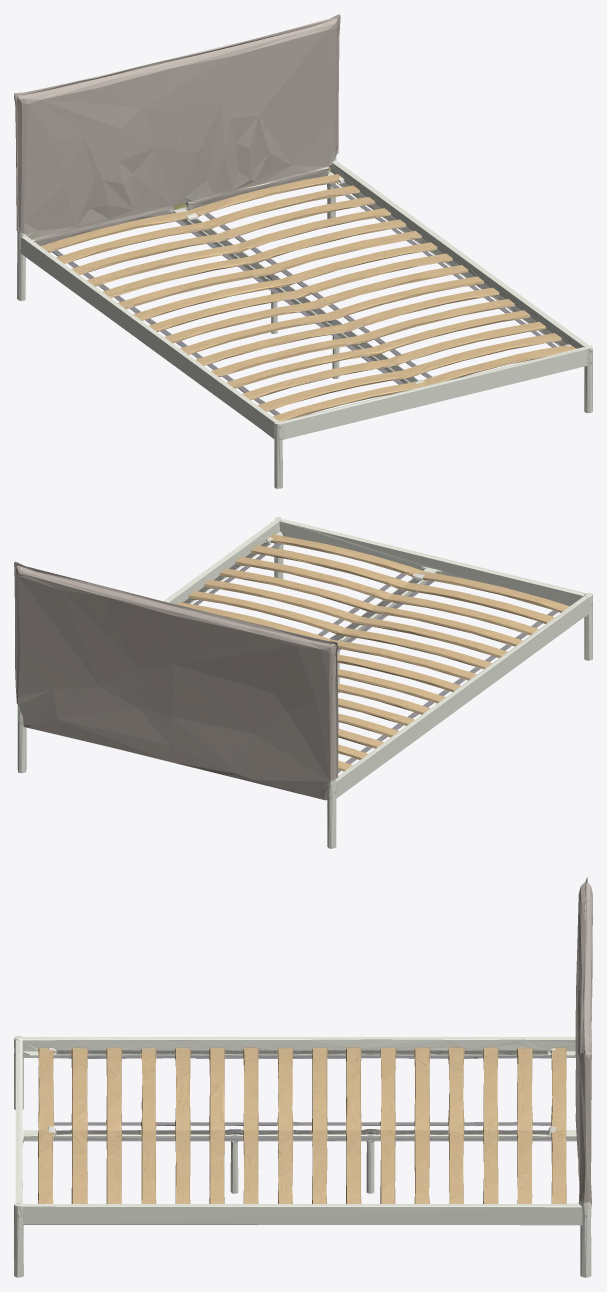
3 renders of one model, top to bottom at view 1: azimuth 30°, elevation 25°; view 2: azimuth 150°, elevation 25°; view 3: azimuth 270°, elevation 25°, orthographic. The views are drawn at different scales.
Visible parts, largest first — view 1: ProcessedGeometry; view 2: ProcessedGeometry; view 3: ProcessedGeometry.
Part boxes in pixels (x1,y1,x2,y2): ProcessedGeometry: (14, 14, 592, 488); ProcessedGeometry: (14, 517, 592, 848); ProcessedGeometry: (14, 877, 592, 1277).
Bounding box in the file's own units: 1.41 × 0.86 × 1.97.
1 material, 1 textured.
